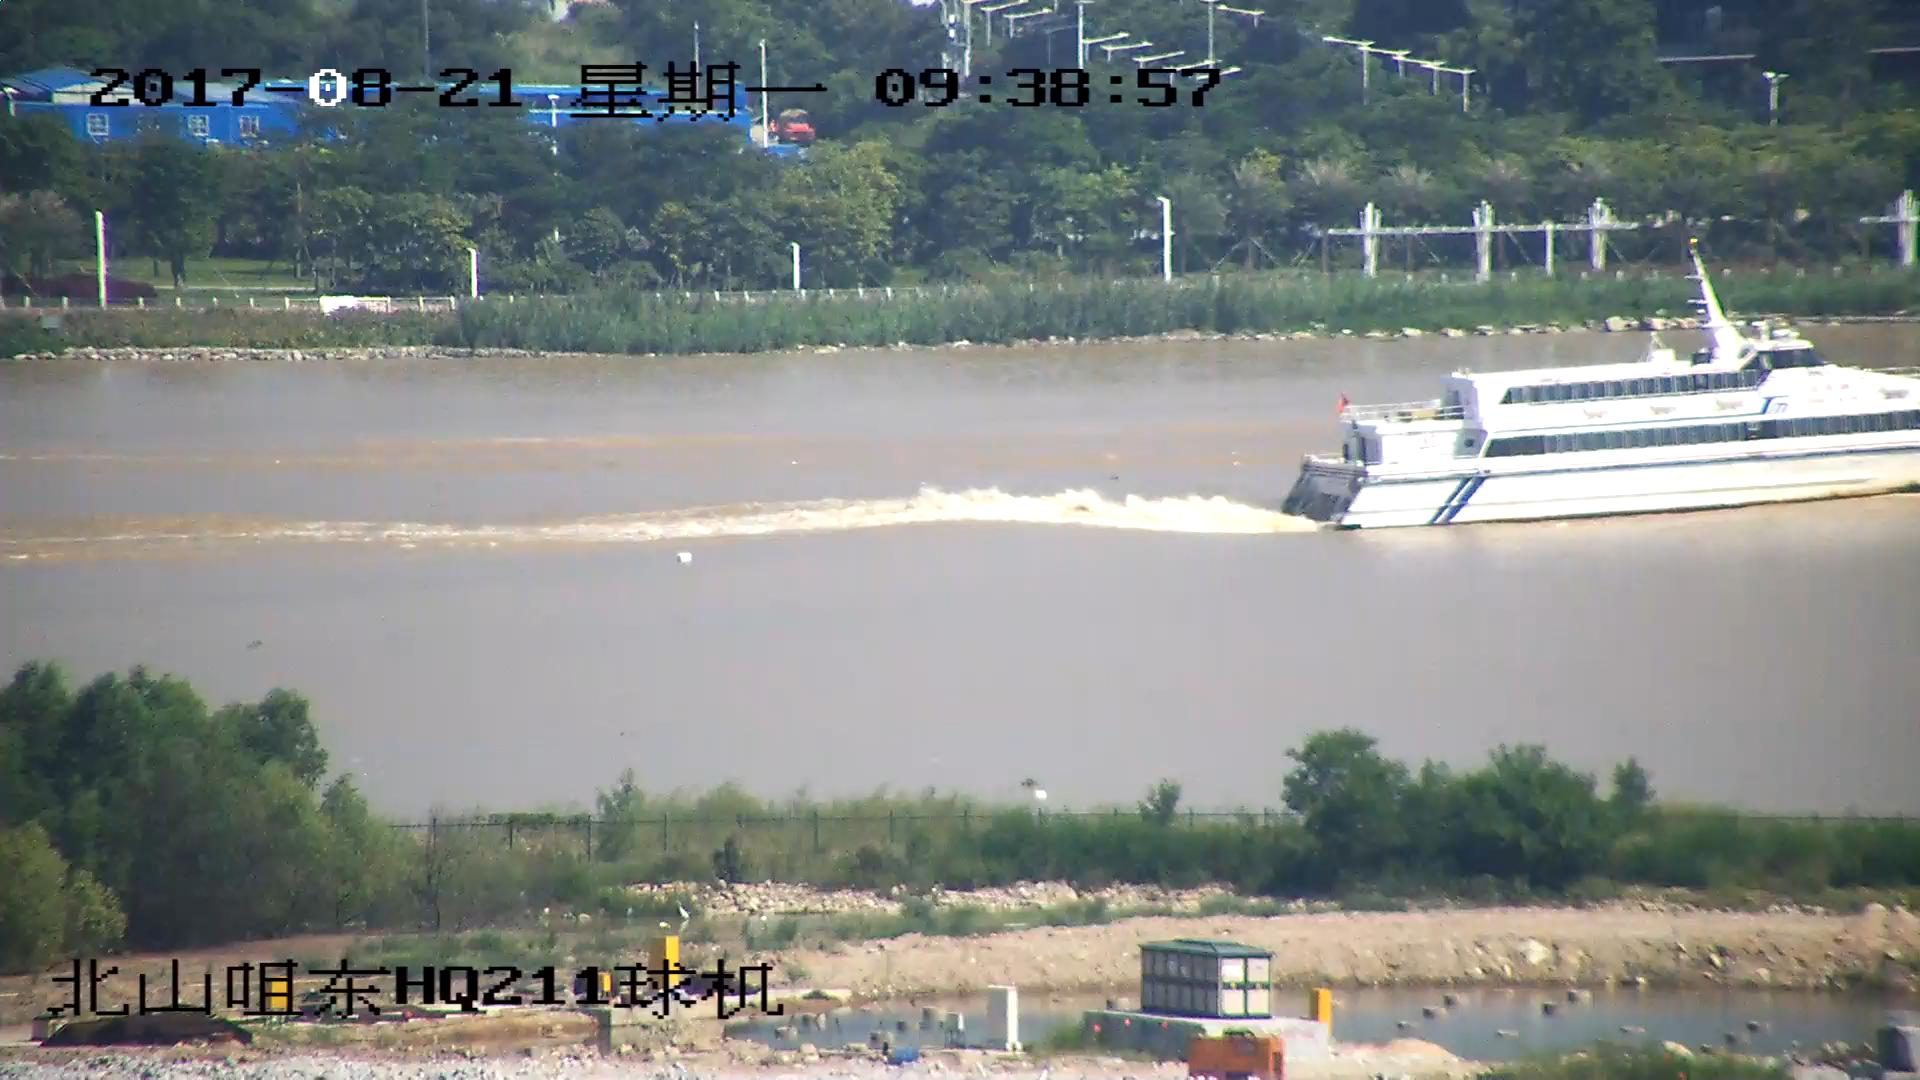passenger ship: (1282, 259, 1920, 527)
